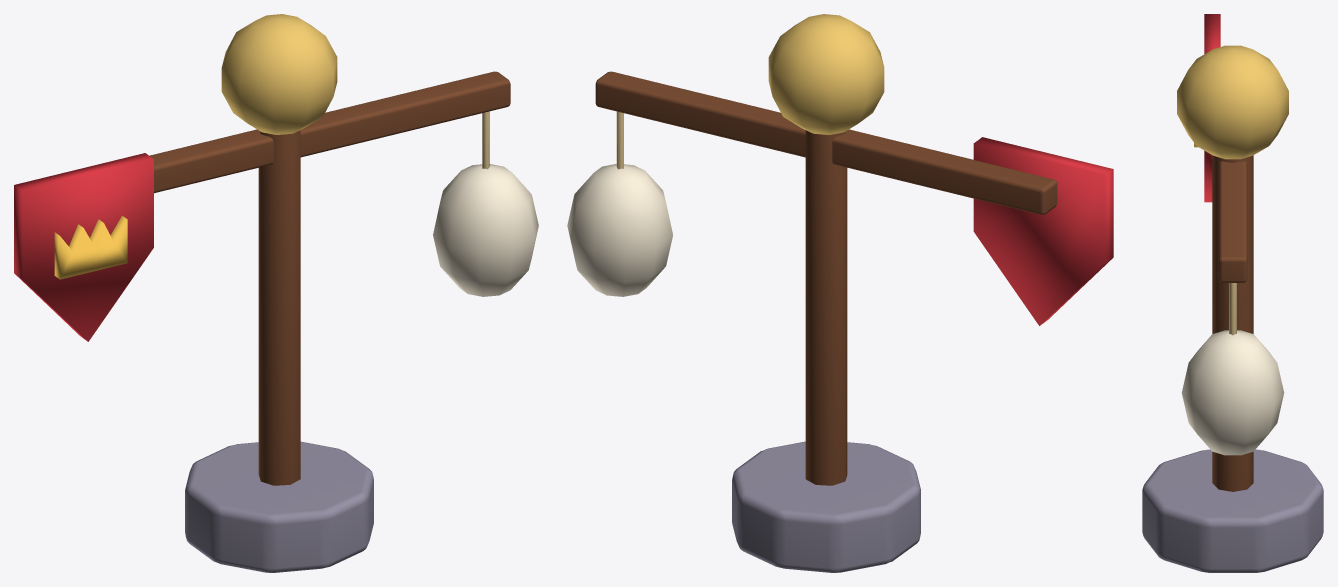
File: faire_dummy.glb
3 views of the same model, side by side, from view 1: azimuth 30°, elevation 25°; view 2: azimuth 150°, elevation 25°; view 3: azimuth 270°, elevation 25° (orthographic). The views are drawn at different scales.
Parts seen in each view (by area): view 1: Dummy; view 2: Dummy; view 3: Dummy.
Part boxes in pixels (bbox=[...]): Dummy: bbox=[14, 14, 538, 572]; Dummy: bbox=[567, 14, 1113, 572]; Dummy: bbox=[1142, 14, 1323, 572].
Size of the model in its own units: 2.79 by 2.63 by 0.8855.
